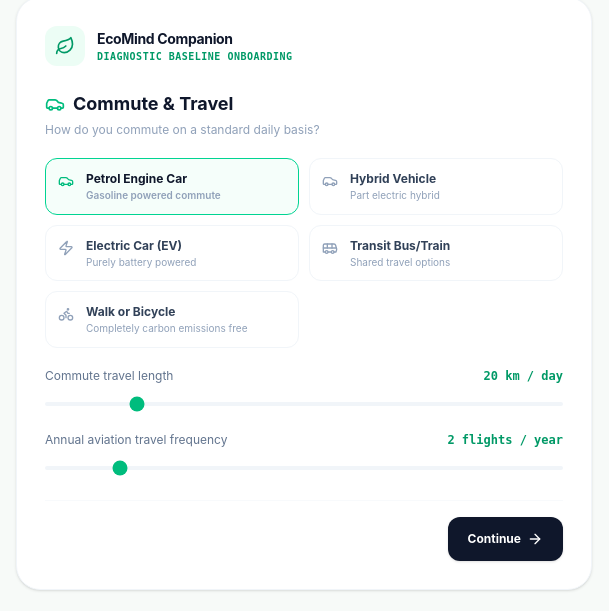
Test: OnboardingQuestionnaire Component › cycles steps on clicking continue
# Move to step 2: Diet
Click the button "Continue": (505, 538) [448, 516, 563, 560]
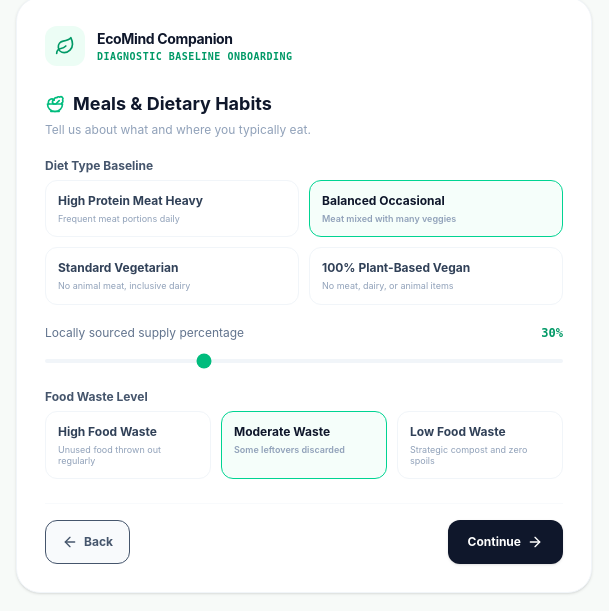
Check: the heading "Meals & Dietary Habits" is shown, box [45, 93, 272, 114]
